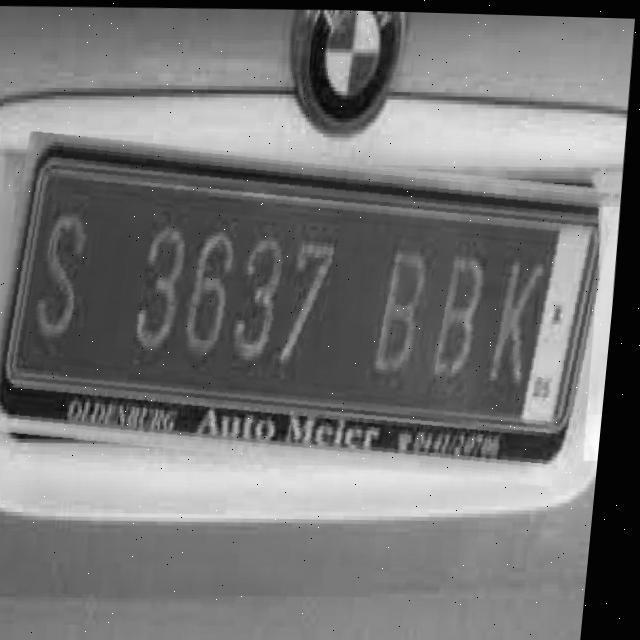LicensePlate: (0, 133, 628, 482), (588, 201, 626, 456)
